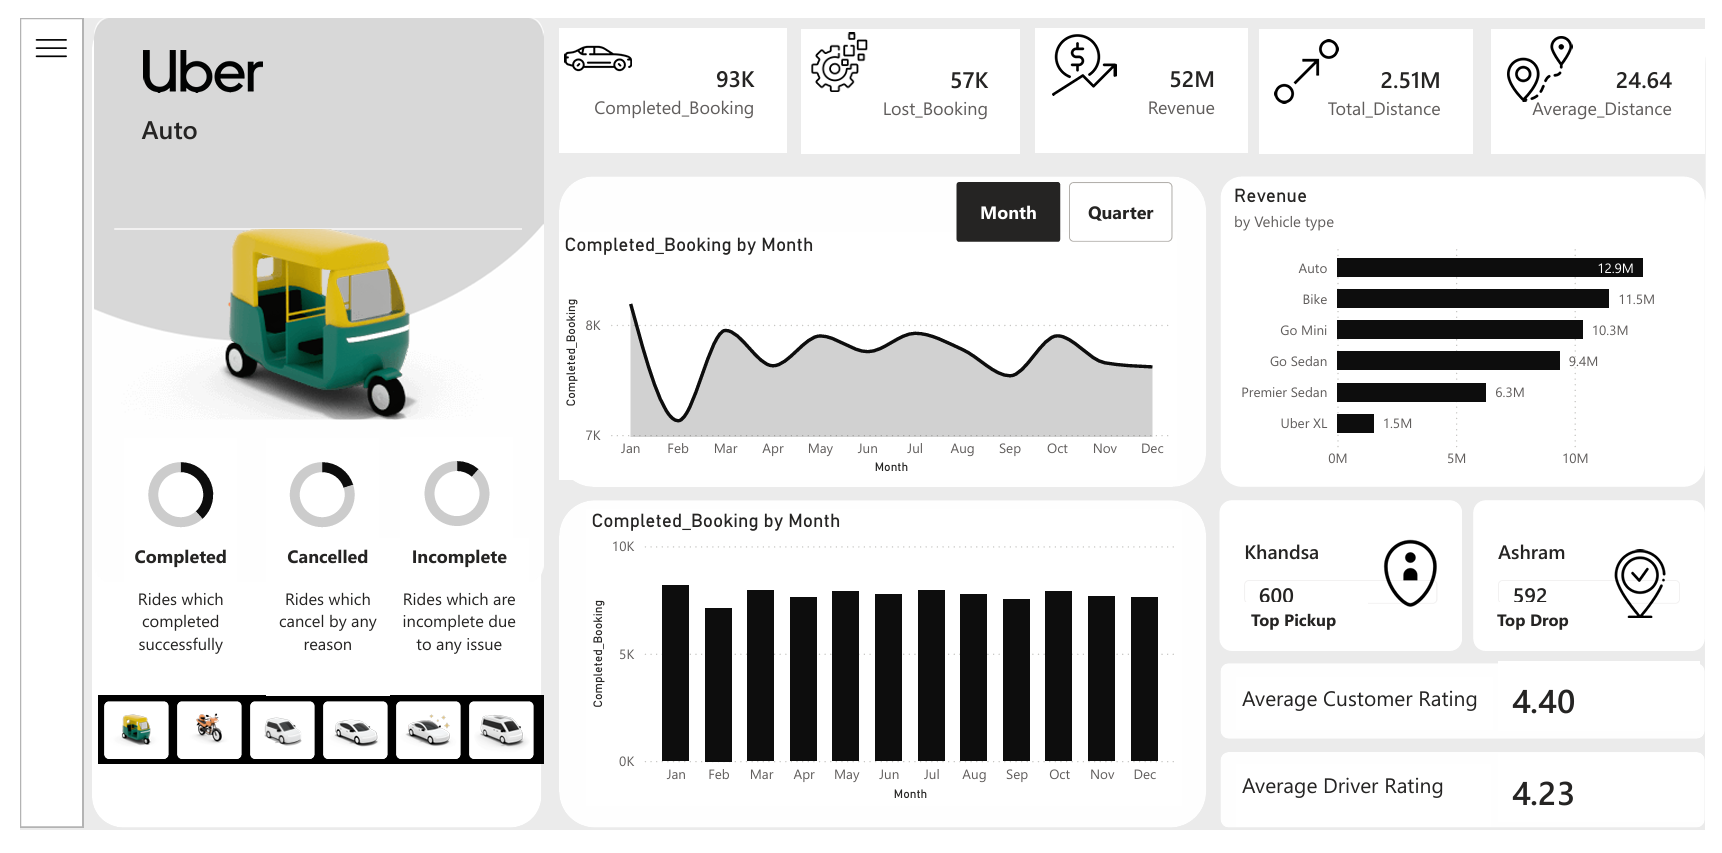

Layout of this report page (visuals, bound fields, positions):
{"tool":"powerbi","page":{"name":"Overview","canvas":[1500,722],"ordinal":1},"visuals":[{"type":"shape","box":[0,0,56.2,720],"z":0},{"type":"image","box":[5.5,9.6,46.7,35.7],"z":1000},{"type":"shape","box":[64.3,0,400,720],"z":2000},{"type":"image","box":[65.7,0,400,501.4],"z":3000},{"type":"cardVisual","fields":{"Data":["Min(IMG.Img)"]},"box":[67.1,0,397.1,374.3],"z":4000},{"type":"image","box":[105.7,28.8,113.9,37],"z":5000},{"type":"cardVisual","fields":{"Data":["_Measures.Lost_Booking"]},"box":[695.7,10,195.7,111.4],"z":6000},{"type":"cardVisual","fields":{"Data":["_Measures.Booking_Value"]},"box":[904.3,8.6,188.6,111.4],"z":7000},{"type":"cardVisual","fields":{"Data":["Min(IMG.Vehicle Type)"]},"box":[78.6,64.3,215.7,67.1],"z":8000},{"type":"cardVisual","fields":{"Data":["_Measures.Total_Diatance"]},"box":[1104.3,10,190,111.4],"z":9000},{"type":"cardVisual","fields":{"Data":["_Measures.Completed_Booking"]},"box":[480,8.6,202.9,111.4],"z":10000},{"type":"cardVisual","fields":{"Data":["_Measures.Average_Distance"]},"box":[1310,10,190,111.4],"z":11000},{"type":"advancedSlicerVisual","fields":{"Values":["IMG.Vehicle Type"]},"box":[70,602.9,397.1,61.4],"z":12000},{"type":"shape","box":[480,141.4,575.7,275.7],"z":13000},{"type":"lineChart","fields":{"Category":["Calendar.Month"],"Y":["_Measures.Completed_Booking"]},"box":[480,191.4,550,220],"z":14000},{"type":"advancedSlicerVisual","fields":{"Values":["Date Axis.Date Axis"]},"box":[828.6,141.4,202.9,62.9],"z":15000},{"type":"shape","box":[480,428.6,575.7,291.4],"z":16000},{"type":"clusteredColumnChart","fields":{"Category":["Calendar.Month"],"Y":["_Measures.Completed_Booking"]},"box":[504.3,437.1,530,264.3],"z":17000},{"type":"clusteredBarChart","fields":{"Y":["_Measures.Booking_Value"],"Category":["Uber.Ve_type"]},"box":[1068.6,141.4,431.4,275.7],"z":18000},{"type":"cardVisual","fields":{"Rows":["Uber.Pickup Location"],"Data":["_Measures.Completed_Booking"]},"box":[1068.3,429.2,215.3,133.5],"z":19000},{"type":"textbox","box":[1082.9,520,117.1,42.9],"z":20000},{"type":"image","box":[1192.3,455.1,91.3,77.7],"z":21000},{"type":"cardVisual","fields":{"Data":["_Measures.Completed_Booking"],"Rows":["Uber.Drop Location"]},"box":[1294.3,428.6,205.7,134.3],"z":22000},{"type":"image","box":[1404.3,472.9,77.1,61.4],"z":23000},{"type":"textbox","box":[1310,520,120,34.3],"z":24000},{"type":"image","box":[918.6,11.4,57.1,58.6],"z":25000},{"type":"image","box":[481.4,5.7,67.1,60],"z":26000},{"type":"image","box":[701.4,12.9,55.7,52.9],"z":27000},{"type":"image","box":[1114.3,18.6,62.9,57.1],"z":28000},{"type":"image","box":[1320,15.7,65.7,58.6],"z":29000},{"type":"shape","box":[1068.6,574.3,431.4,67.1],"z":30000},{"type":"shape","box":[1068.6,652.9,431.4,67.1],"z":31000},{"type":"cardVisual","fields":{"Data":["Avg(Uber.Customer Rating)"]},"box":[1311.4,567.1,188.6,71.4],"z":32000},{"type":"cardVisual","fields":{"Data":["Avg(Uber.Driver Ratings)"]},"box":[1311.4,648.6,188.6,71.4],"z":33000},{"type":"textbox","box":[1082.9,587.1,228.6,47.1],"z":34000},{"type":"textbox","box":[1082.9,664.3,227.1,55.7],"z":35000},{"type":"donutChart","fields":{"Y":["_Measures.Booking_Count","_Measures.Booking_Remove_Status_Filter"]},"box":[92.9,374.3,100,100],"z":36000},{"type":"donutChart","fields":{"Y":["_Measures.Booking_Count","_Measures.Booking_Remove_Status_Filter"]},"box":[218.6,374.3,100,100],"z":37000},{"type":"donutChart","fields":{"Y":["_Measures.Booking_Count","_Measures.Booking_Remove_Status_Filter"]},"box":[338.6,372.9,100,100],"z":38000},{"type":"textbox","box":[92.9,462.9,100,111.4],"z":39000},{"type":"textbox","box":[218.6,462.9,110,140],"z":40000},{"type":"textbox","box":[328.6,462.9,124.3,124.3],"z":41000}]}

Visuals, with their boxes in screenshot pixels (x1, y1, x2, y2), scaled from the page's 1500x722 canvas onto the 1722x853 screenshot:
shape: Rect(0, 0, 65, 851)
image: Rect(6, 11, 60, 54)
shape: Rect(74, 0, 533, 851)
image: Rect(75, 0, 535, 592)
cardVisual - Min(IMG.Img): Rect(77, 0, 533, 442)
image: Rect(121, 34, 252, 78)
cardVisual - _Measures.Lost_Booking: Rect(799, 12, 1023, 143)
cardVisual - _Measures.Booking_Value: Rect(1038, 10, 1255, 142)
cardVisual - Min(IMG.Vehicle Type): Rect(90, 76, 338, 155)
cardVisual - _Measures.Total_Diatance: Rect(1268, 12, 1486, 143)
cardVisual - _Measures.Completed_Booking: Rect(551, 10, 784, 142)
cardVisual - _Measures.Average_Distance: Rect(1504, 12, 1721, 143)
advancedSlicerVisual - IMG.Vehicle Type: Rect(80, 712, 536, 785)
shape: Rect(551, 167, 1212, 493)
lineChart - Calendar.Month x _Measures.Completed_Booking: Rect(551, 226, 1182, 486)
advancedSlicerVisual - Date Axis.Date Axis: Rect(951, 167, 1184, 241)
shape: Rect(551, 506, 1212, 851)
clusteredColumnChart - Calendar.Month x _Measures.Completed_Booking: Rect(579, 516, 1187, 829)
clusteredBarChart - _Measures.Booking_Value x Uber.Ve_type: Rect(1227, 167, 1721, 493)
cardVisual - Uber.Pickup Location x _Measures.Completed_Booking: Rect(1226, 507, 1474, 665)
textbox: Rect(1243, 614, 1378, 665)
image: Rect(1369, 538, 1474, 629)
cardVisual - _Measures.Completed_Booking x Uber.Drop Location: Rect(1486, 506, 1721, 665)
image: Rect(1612, 559, 1701, 631)
textbox: Rect(1504, 614, 1642, 655)
image: Rect(1055, 13, 1120, 83)
image: Rect(553, 7, 630, 78)
image: Rect(805, 15, 869, 78)
image: Rect(1279, 22, 1351, 89)
image: Rect(1515, 19, 1591, 88)
shape: Rect(1227, 679, 1721, 758)
shape: Rect(1227, 771, 1721, 851)
cardVisual - Avg(Uber.Customer Rating): Rect(1505, 670, 1721, 754)
cardVisual - Avg(Uber.Driver Ratings): Rect(1505, 766, 1721, 851)
textbox: Rect(1243, 694, 1506, 749)
textbox: Rect(1243, 785, 1504, 851)
donutChart - _Measures.Booking_Count x _Measures.Booking_Remove_Status_Filter: Rect(107, 442, 221, 560)
donutChart - _Measures.Booking_Count x _Measures.Booking_Remove_Status_Filter: Rect(251, 442, 366, 560)
donutChart - _Measures.Booking_Count x _Measures.Booking_Remove_Status_Filter: Rect(389, 441, 504, 559)
textbox: Rect(107, 547, 221, 679)
textbox: Rect(251, 547, 377, 712)
textbox: Rect(377, 547, 520, 694)
